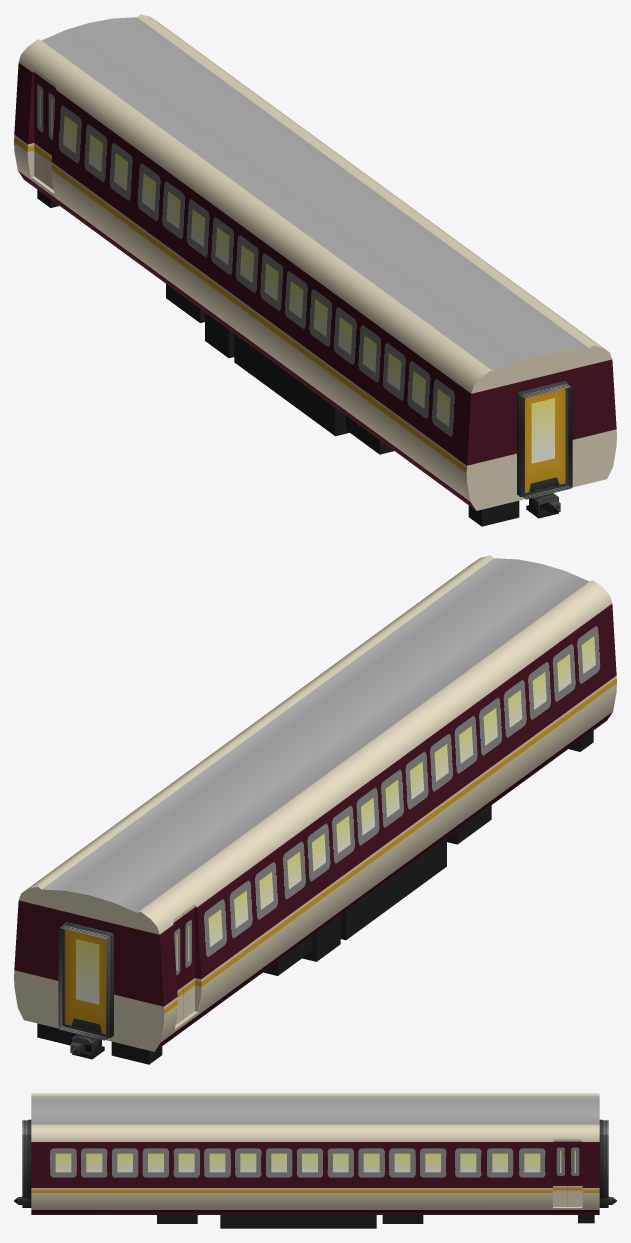
File: DRC_01.glb
3 renders of one model, top to bottom at view 1: azimuth 30°, elevation 25°; view 2: azimuth 150°, elevation 25°; view 3: azimuth 270°, elevation 25°, orthographic. The views are drawn at different scales.
Visible parts, largest first — view 1: obj7; view 2: obj7; view 3: obj7.
Part boxes in pixels (x1,y1,x2,y2): obj7: [14, 14, 616, 526]; obj7: [14, 555, 616, 1064]; obj7: [14, 1093, 616, 1228].
Size of the model in its own units: 7.32 by 8.32 by 40.51.
10 materials, 10 textured.
